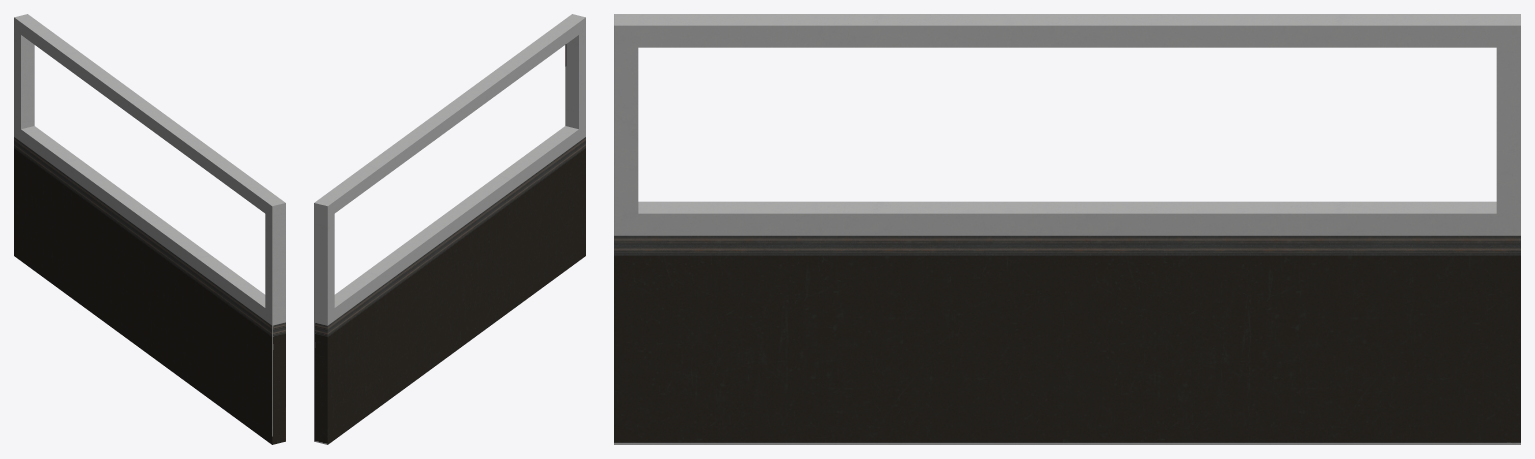
Rendered from pasarelamaterial.fbx.
3 renders of one model, left to right at view 1: azimuth 30°, elevation 25°; view 2: azimuth 150°, elevation 25°; view 3: azimuth 270°, elevation 25°, orthographic. The views are drawn at different scales.
Parts seen in each view (by area): view 1: Cube; view 2: Cube; view 3: Cube.
Part boxes in pixels (<box>): Cube: <box>14,14,285,444</box>; Cube: <box>314,14,585,444</box>; Cube: <box>614,14,1520,444</box>.
Bounding box in the file's own units: 6 × 100 × 196.
